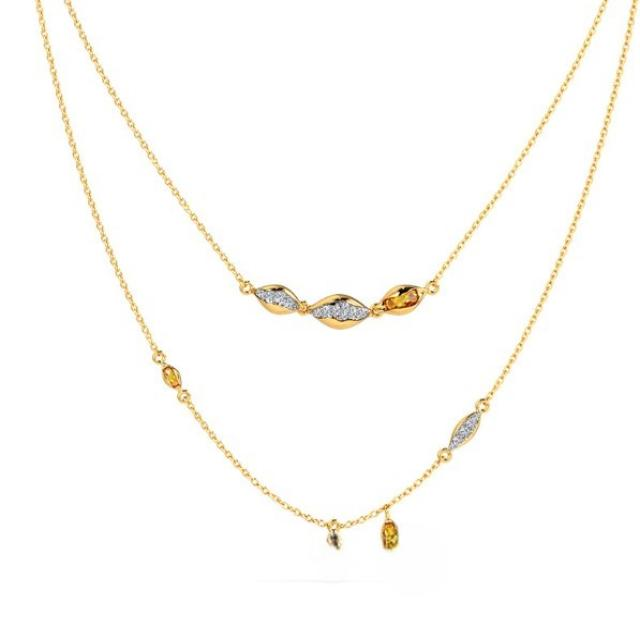missing gem: (383, 288, 418, 311), (381, 523, 400, 550), (328, 534, 344, 564)
